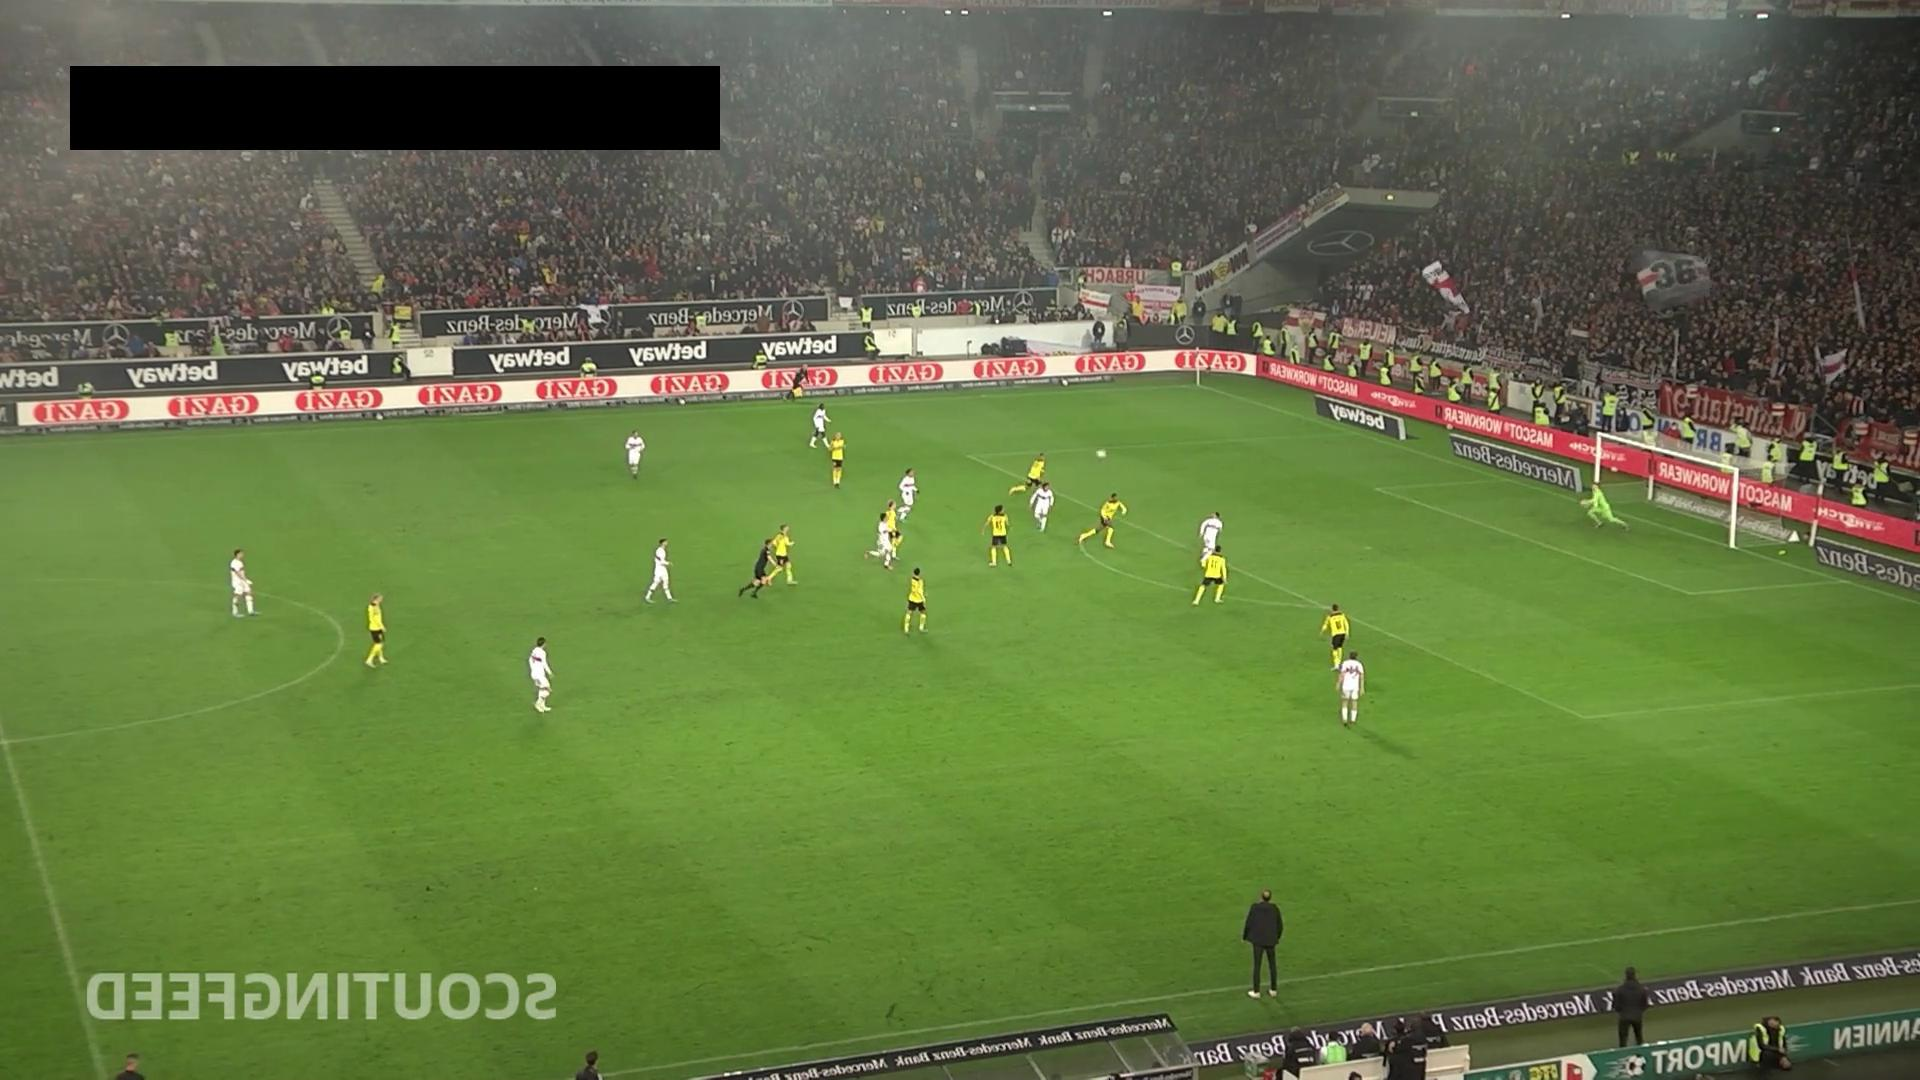ball: (1094, 447, 1108, 461)
goalkeeper: (1579, 483, 1630, 532)
player: (1077, 491, 1128, 549), (1335, 649, 1365, 725), (528, 636, 556, 714), (644, 537, 677, 603), (1318, 603, 1350, 670), (1192, 545, 1228, 604), (766, 523, 798, 586), (981, 504, 1013, 567), (229, 548, 258, 617), (364, 592, 389, 668), (863, 513, 893, 574), (902, 566, 928, 635), (1011, 452, 1048, 496), (1197, 511, 1223, 567), (881, 499, 903, 563), (1030, 480, 1055, 532), (898, 468, 919, 522), (625, 428, 646, 480), (809, 403, 832, 450), (828, 431, 846, 488)
referee: (737, 541, 775, 599), (782, 363, 812, 402)
